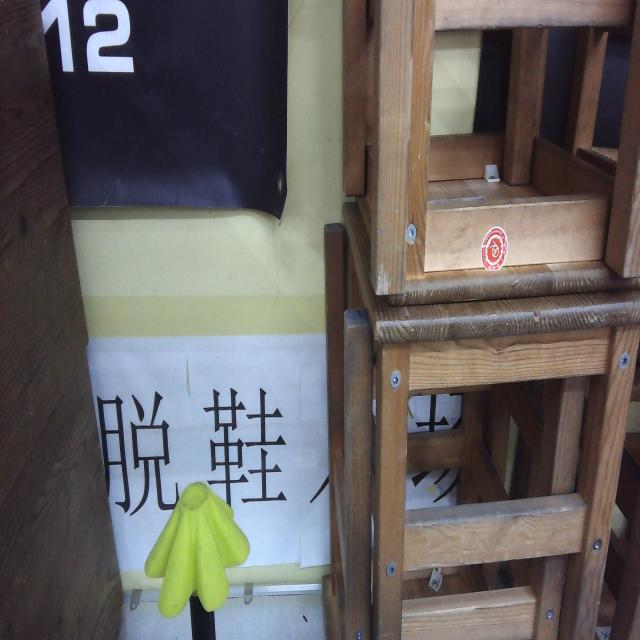Yellow-Stake-Head: (142, 481, 248, 620)
